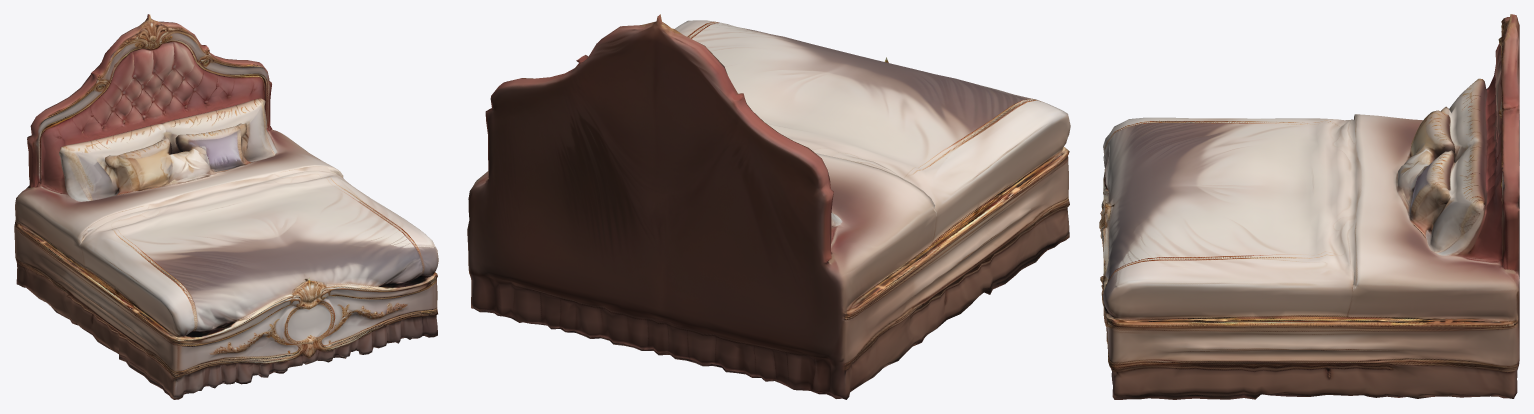
File: base_basic_pbr.fbx
3 views of the same model, side by side, from view 1: azimuth 30°, elevation 25°; view 2: azimuth 150°, elevation 25°; view 3: azimuth 270°, elevation 25° (orthographic). The views are drawn at different scales.
Visible parts, largest first — view 1: model; view 2: model; view 3: model.
Part boxes in pixels (left/top/right/bottom): model: left=14, top=14, right=438, bottom=399; model: left=467, top=14, right=1070, bottom=399; model: left=1099, top=14, right=1519, bottom=399.
Bounding box in the file's own units: 176 × 150 × 188.
1 material, 1 textured.
